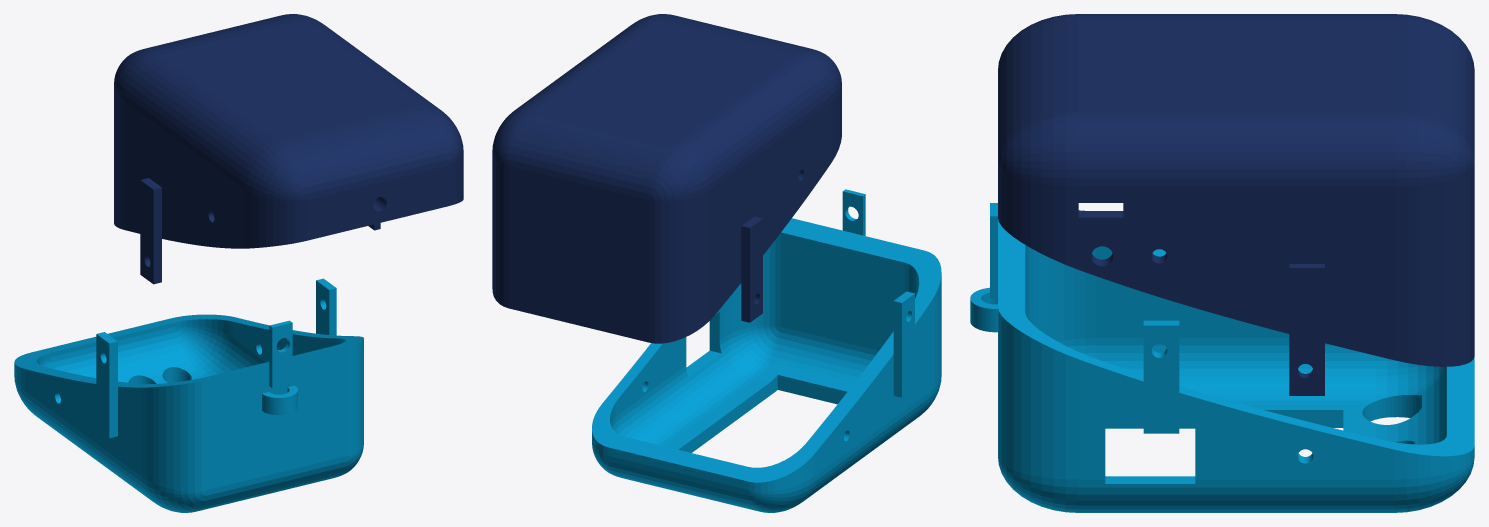
The model's file is tinker.obj.
The picture shows the model from 3 angles, left to right: view 1: azimuth 30°, elevation 25°; view 2: azimuth 150°, elevation 25°; view 3: azimuth 270°, elevation 25°; orthographic projection. The views are drawn at different scales.
Parts seen in each view (by area): view 1: obj_1, obj_0; view 2: obj_1, obj_0; view 3: obj_1, obj_0.
Boxes of the visible parts, left/top/right/bottom form: obj_1: left=114, top=14, right=463, bottom=284; obj_0: left=14, top=278, right=363, bottom=512; obj_1: left=492, top=14, right=841, bottom=343; obj_0: left=592, top=189, right=941, bottom=512; obj_1: left=998, top=14, right=1474, bottom=395; obj_0: left=970, top=203, right=1474, bottom=512.
Bounding box in the file's own units: 161 × 162 × 160.
